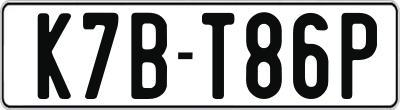6: (293, 10, 328, 99)
7: (81, 12, 118, 104)
8: (246, 11, 288, 104)
B: (129, 10, 171, 102)
K: (35, 10, 73, 101)
P: (341, 11, 381, 101)
T: (199, 10, 237, 100)
